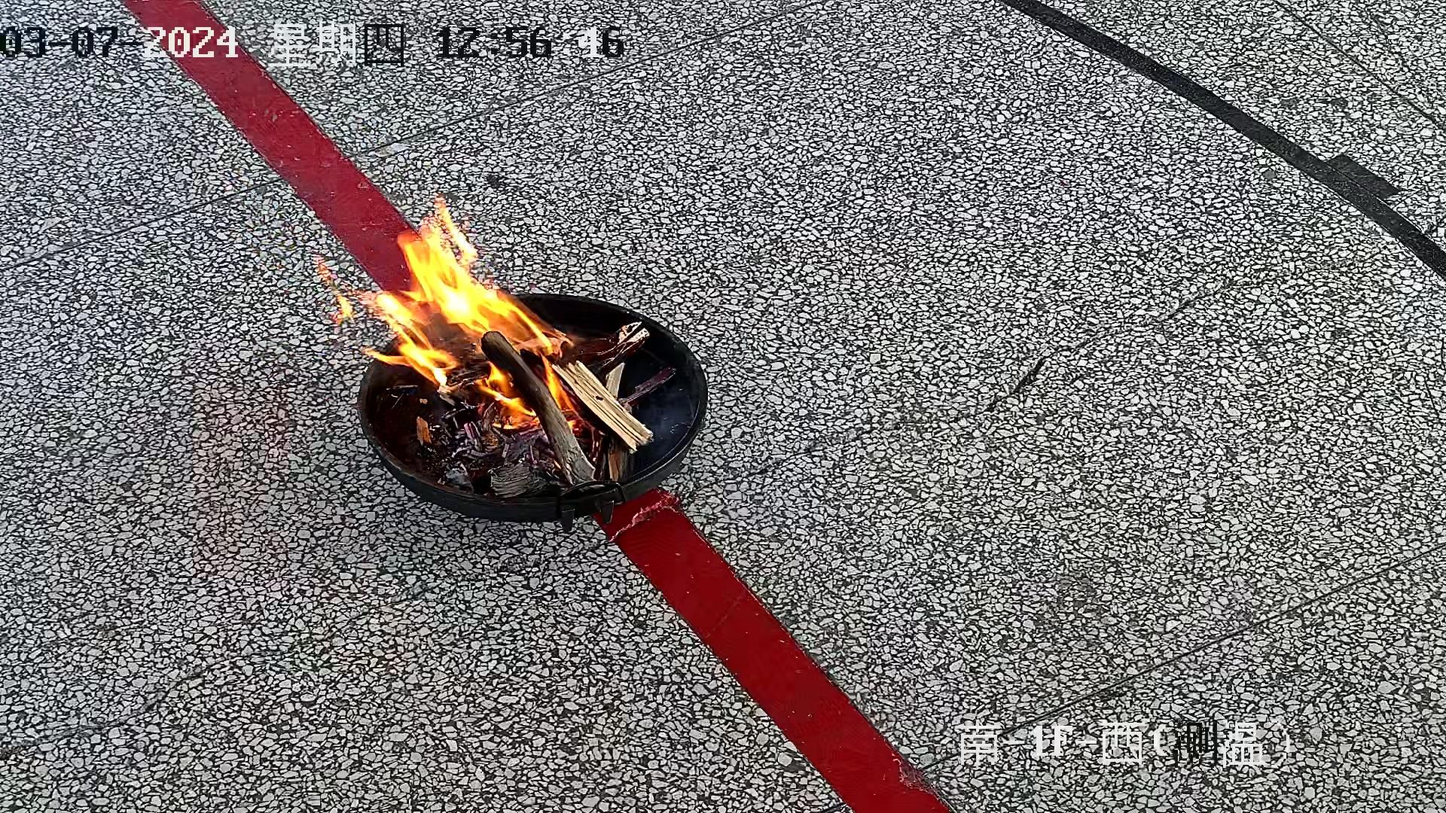fire: (362, 199, 578, 398), (474, 366, 532, 425)
